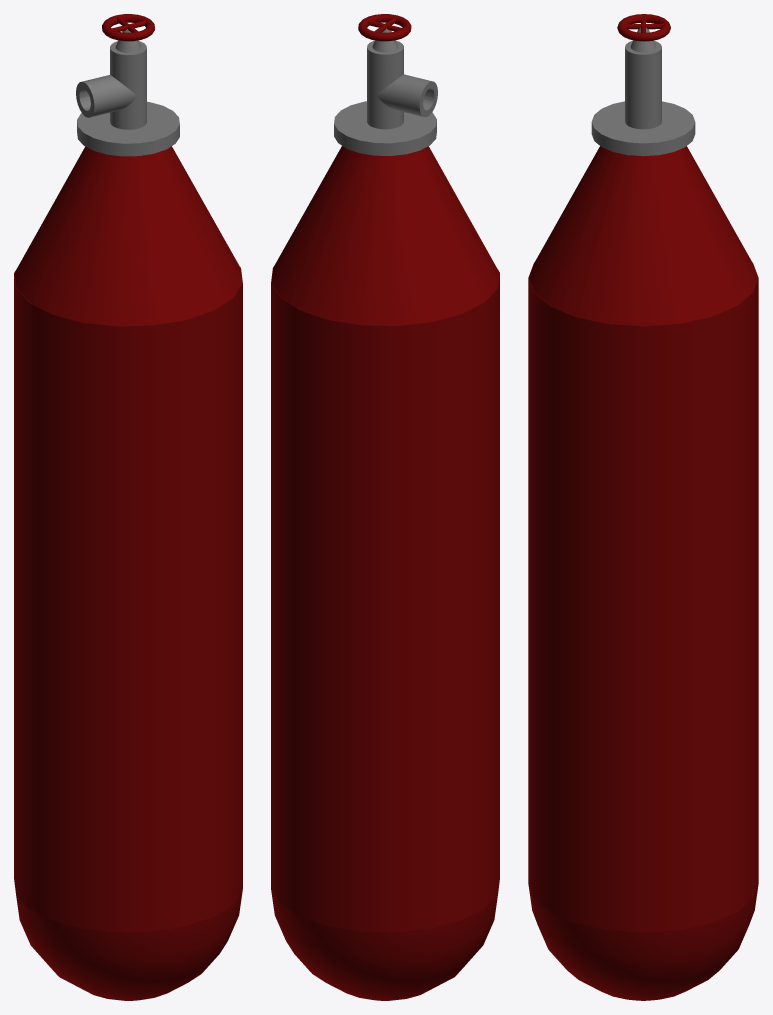
The model's file is nieuwe fles.fbx.
3 views of the same model, side by side, from view 1: azimuth 30°, elevation 25°; view 2: azimuth 150°, elevation 25°; view 3: azimuth 270°, elevation 25° (orthographic).
Parts seen in each view (by area): view 1: pasted__pCylinder1, pCylinder1, pCylinder2, pasted__pCylinder4, group4_pasted__pCylinder3, pTorus1; view 2: pasted__pCylinder1, pCylinder1, pCylinder2, pasted__pCylinder4, group4_pasted__pCylinder3, pTorus1; view 3: pasted__pCylinder1, pCylinder1, pCylinder2, pasted__pCylinder4, pTorus1.
Boxes of the visible parts, bbox=[...] form: pasted__pCylinder1: bbox=[14, 267, 242, 1000]; pCylinder1: bbox=[14, 146, 242, 326]; pCylinder2: bbox=[77, 101, 179, 156]; pasted__pCylinder4: bbox=[110, 41, 146, 129]; group4_pasted__pCylinder3: bbox=[76, 75, 137, 117]; pTorus1: bbox=[102, 14, 154, 41]; pasted__pCylinder1: bbox=[271, 267, 499, 1000]; pCylinder1: bbox=[271, 146, 499, 325]; pCylinder2: bbox=[334, 101, 436, 155]; pasted__pCylinder4: bbox=[367, 40, 403, 129]; group4_pasted__pCylinder3: bbox=[376, 74, 437, 117]; pTorus1: bbox=[358, 14, 411, 41]; pasted__pCylinder1: bbox=[528, 262, 758, 1000]; pCylinder1: bbox=[529, 146, 757, 326]; pCylinder2: bbox=[591, 101, 695, 156]; pasted__pCylinder4: bbox=[625, 40, 661, 129]; pTorus1: bbox=[617, 14, 670, 41].
Size of the model in its own units: 5.93 by 27.62 by 5.93.
